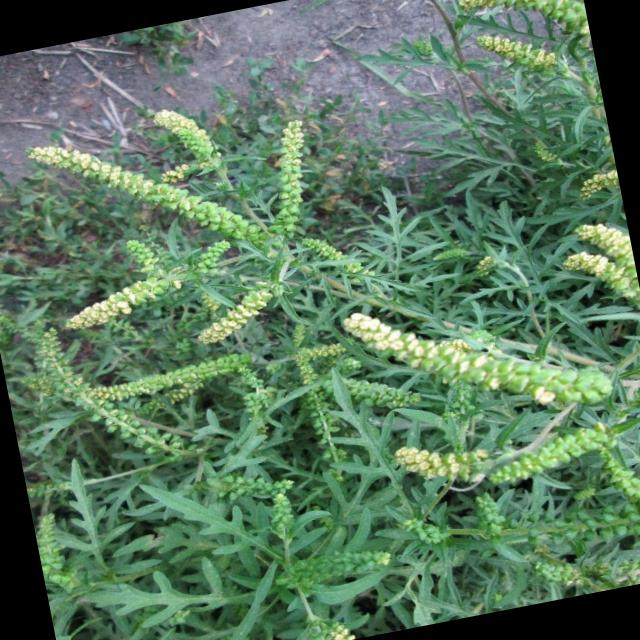ambrosia: (15, 78, 352, 362), (364, 265, 640, 526), (62, 344, 290, 484), (242, 518, 401, 622), (429, 0, 596, 91)
